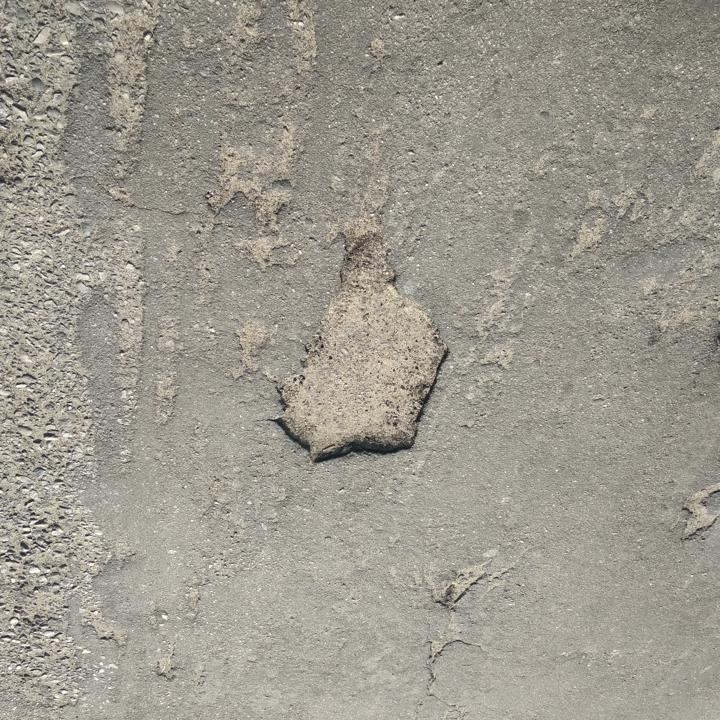pothole: (263, 237, 454, 469), (676, 480, 720, 542), (438, 563, 487, 609)
